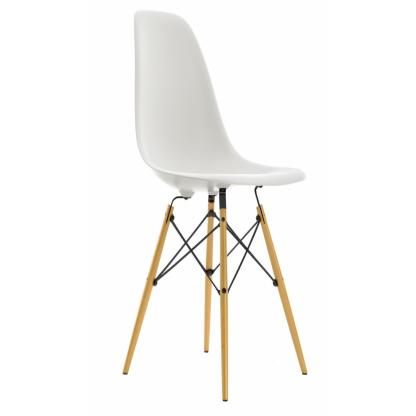chair: (128, 3, 312, 402)
